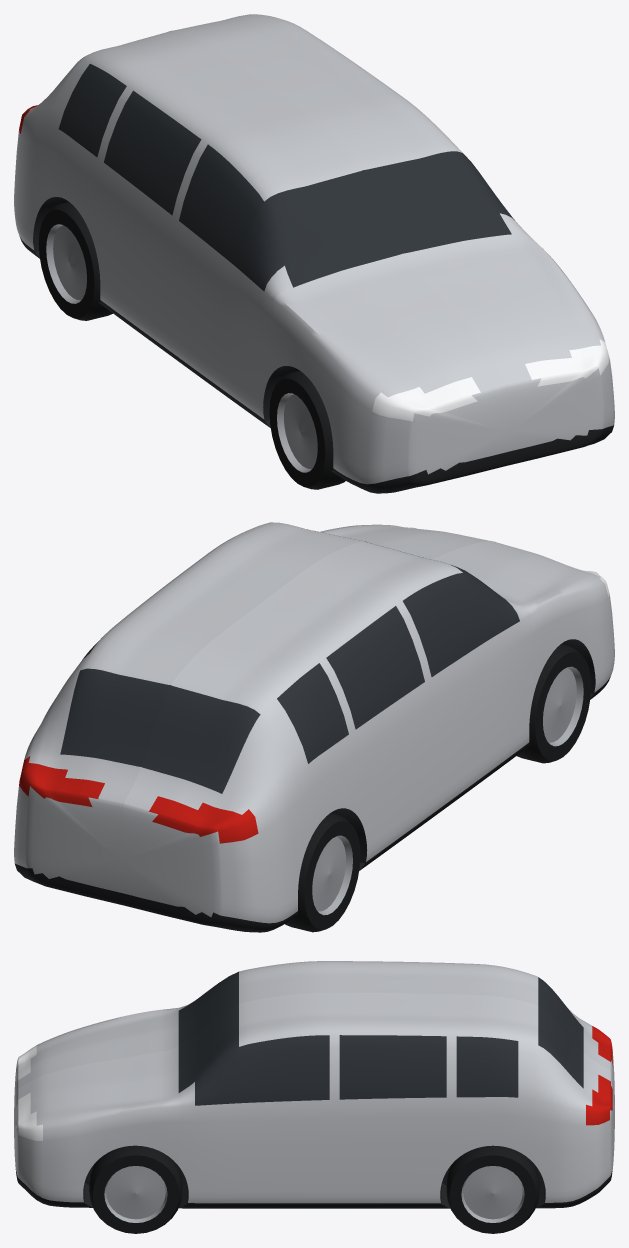
File: suv.glb
3 renders of one model, top to bottom at view 1: azimuth 30°, elevation 25°; view 2: azimuth 150°, elevation 25°; view 3: azimuth 270°, elevation 25°, orthographic. The views are drawn at different scales.
Parts seen in each view (by area): view 1: suv; view 2: suv; view 3: suv.
Boxes of the visible parts, left/top/right/bottom form: suv: left=14, top=14, right=614, bottom=493; suv: left=14, top=522, right=614, bottom=932; suv: left=14, top=961, right=614, bottom=1233.
Bounding box in the file's own units: 1.9 × 1.7 × 4.78.
